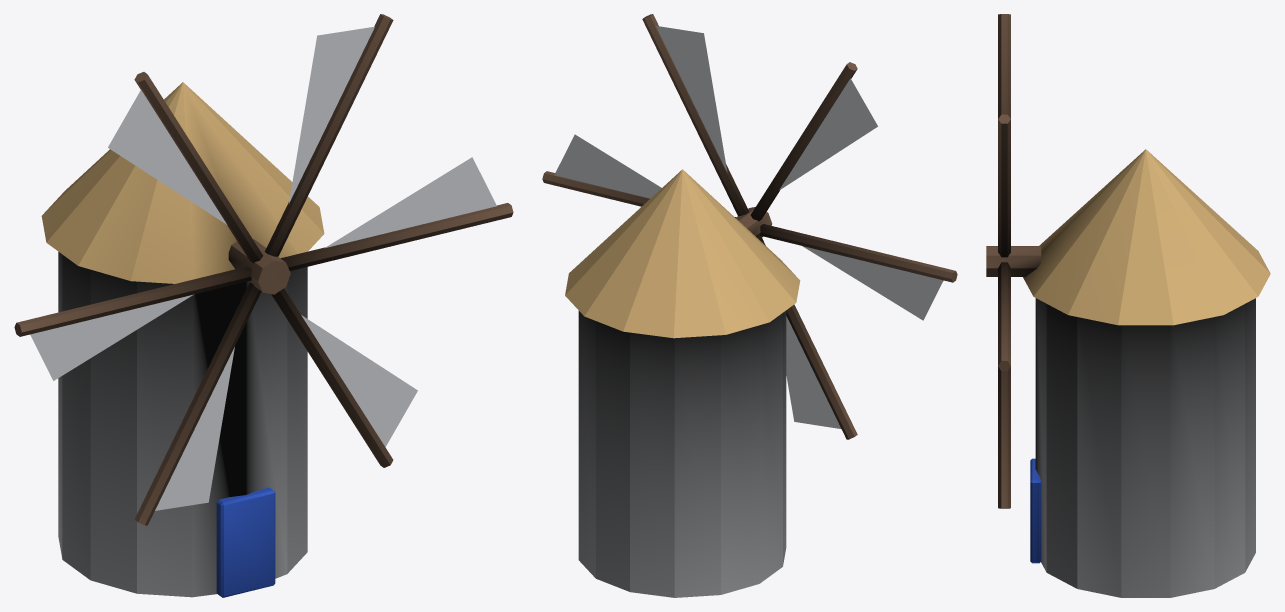
The model's file is obj-windmill.glb.
The picture shows the model from 3 angles, left to right: view 1: azimuth 30°, elevation 25°; view 2: azimuth 150°, elevation 25°; view 3: azimuth 270°, elevation 25°; orthographic projection. The views are drawn at different scales.
Parts seen in each view (by area): view 1: Cylinder.076, Cone.009, Cube.089, sail.001, sail, sail.002, sail.005, sail.003, sail.004, Cylinder.082, Cylinder.079, Cylinder.081 (+4 smaller); view 2: Cylinder.076, Cone.009, sail.001, sail.002, sail.003, sail, sail.004, Cylinder.081, Cylinder.079, Cylinder.080, Cylinder.082, Cylinder.078; view 3: Cylinder.076, Cone.009, Cylinder.079, Cylinder.083, Cylinder.078, Cylinder.077, Cylinder.080, Cube.089.
Boxes of the visible parts, bbox=[...] form: Cylinder.076: bbox=[58, 252, 307, 597]; Cone.009: bbox=[41, 82, 324, 283]; Cube.089: bbox=[216, 487, 275, 597]; sail.001: bbox=[289, 26, 374, 203]; sail: bbox=[324, 157, 496, 248]; sail.002: bbox=[108, 90, 226, 224]; sail.005: bbox=[301, 315, 417, 446]; sail.003: bbox=[30, 294, 193, 380]; sail.004: bbox=[155, 347, 234, 510]; Cylinder.082: bbox=[134, 282, 261, 525]; Cylinder.079: bbox=[264, 14, 393, 256]; Cylinder.081: bbox=[14, 266, 251, 336]; Cylinder.076: bbox=[578, 310, 786, 597]; Cone.009: bbox=[565, 169, 800, 338]; sail.001: bbox=[656, 26, 727, 172]; sail.002: bbox=[779, 78, 877, 190]; sail.003: bbox=[802, 246, 943, 320]; sail: bbox=[554, 134, 661, 198]; sail.004: bbox=[786, 316, 841, 428]; Cylinder.081: bbox=[760, 224, 957, 282]; Cylinder.079: bbox=[642, 14, 749, 215]; Cylinder.080: bbox=[750, 62, 857, 221]; Cylinder.082: bbox=[759, 237, 857, 439]; Cylinder.078: bbox=[542, 171, 735, 217]; Cylinder.076: bbox=[1035, 298, 1255, 597]; Cone.009: bbox=[1023, 149, 1270, 325]; Cylinder.079: bbox=[998, 114, 1010, 257]; Cylinder.083: bbox=[998, 366, 1010, 508]; Cylinder.078: bbox=[998, 262, 1010, 371]; Cylinder.077: bbox=[986, 246, 1041, 276]; Cylinder.080: bbox=[998, 14, 1010, 118]; Cube.089: bbox=[1030, 458, 1041, 563].
Bounding box in the file's own units: 2.7 × 2.93 × 1.55.
